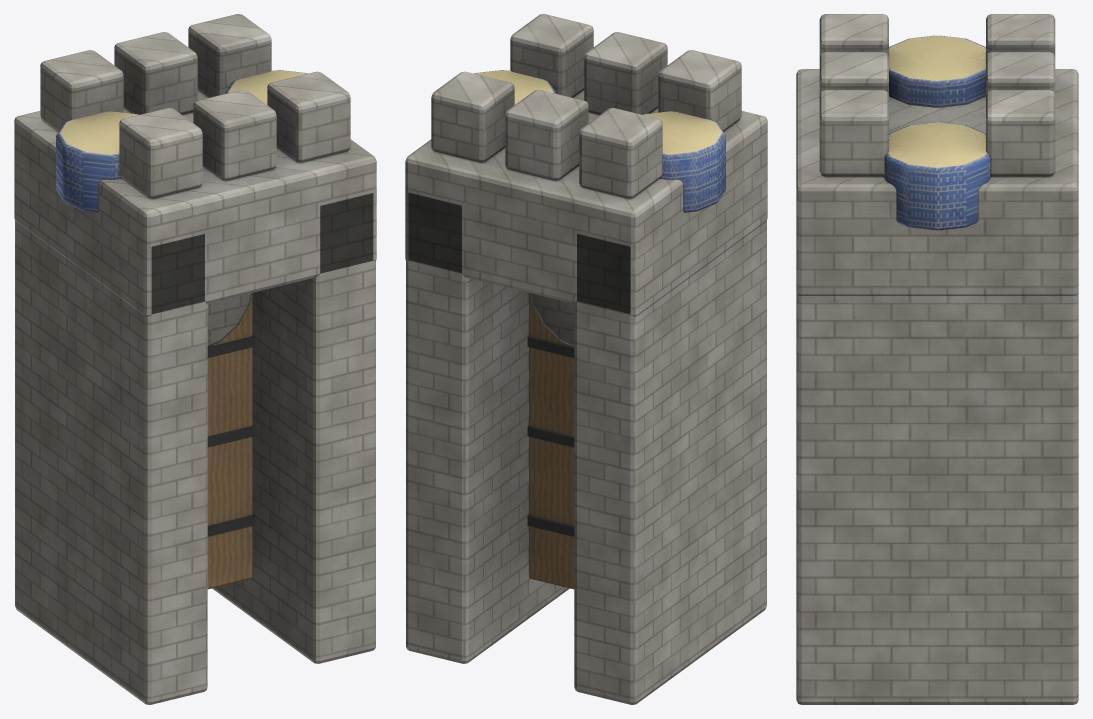
File: gate.glb
3 renders of one model, left to right at view 1: azimuth 30°, elevation 25°; view 2: azimuth 150°, elevation 25°; view 3: azimuth 270°, elevation 25°, orthographic. The views are drawn at different scales.
Visible parts, largest first — view 1: gate; view 2: gate; view 3: gate.
Boxes of the visible parts, x1=… form: gate: x1=14, y1=14, x2=376, y2=704; gate: x1=405, y1=14, x2=767, y2=704; gate: x1=796, y1=14, x2=1078, y2=704.
Bounding box in the file's own units: 2.31 × 4.65 × 2.04.
1 material, 1 textured.
